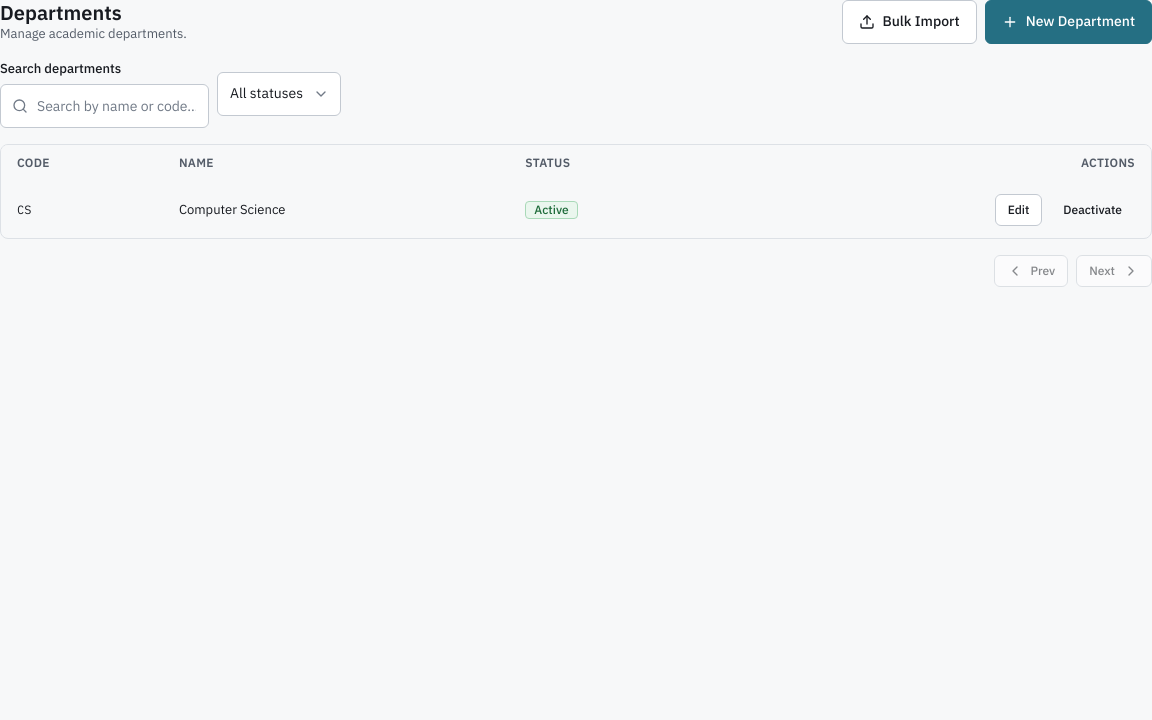
Admin > Academic Structure > Departments › deactivates a department after confirmation
The width and height of the screenshot is (1152, 720).
Expected: the text "Computer Science" is shown, [163,182,509,238]
Click the button "Deactivate": coordinates (1093, 210) [1050,194,1135,226]
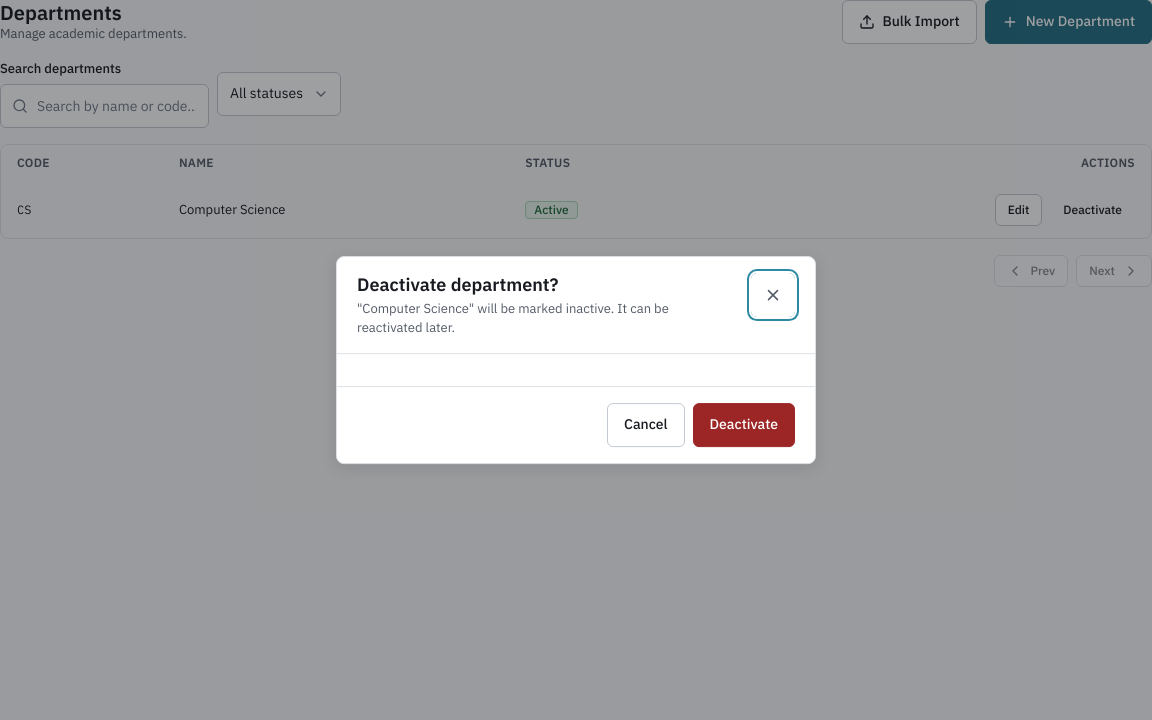
Click the button "Deactivate": coordinates (744, 425) [692,403,795,447]
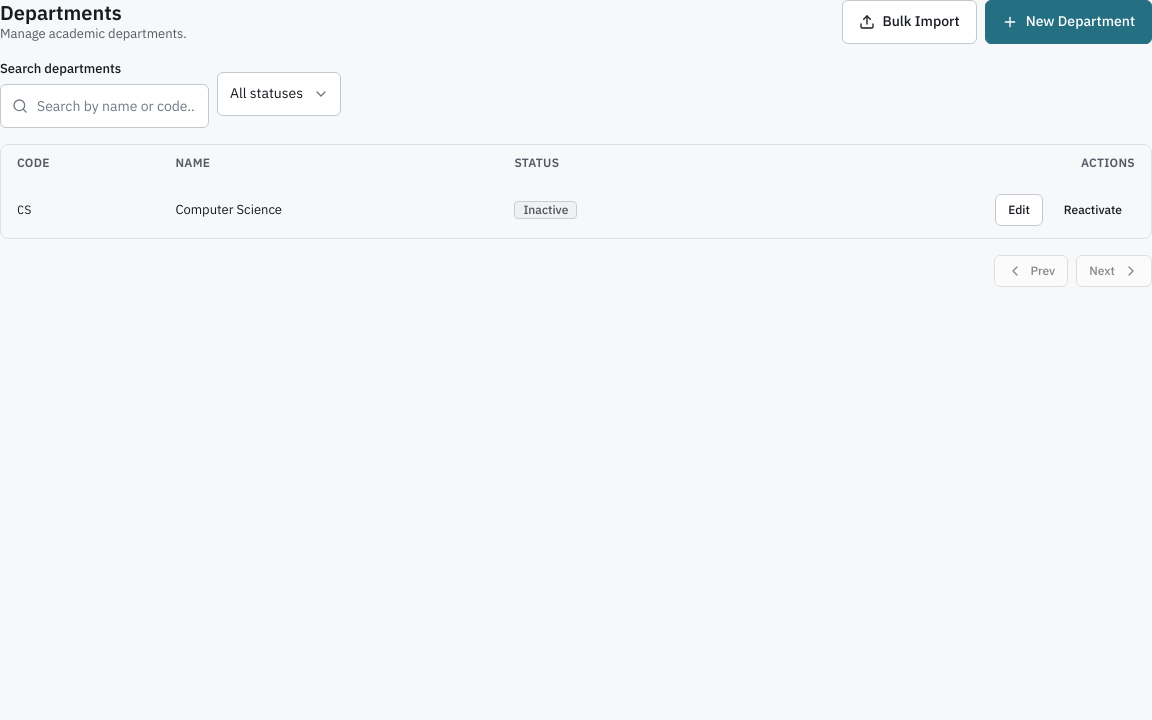
Expected: the dialog is gone
Expected: the text "Inactive" is shown, [514,201,577,219]
